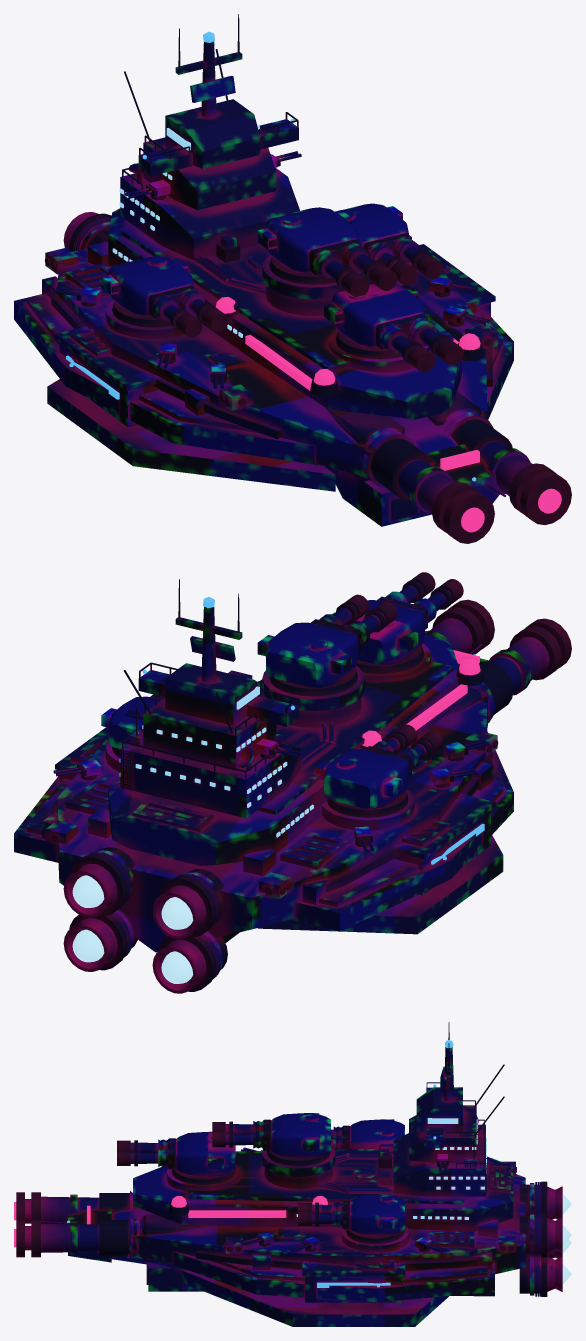
Rendered from iron_dreadnought.glb.
The picture shows the model from 3 angles, top to bottom: view 1: azimuth 30°, elevation 25°; view 2: azimuth 150°, elevation 25°; view 3: azimuth 270°, elevation 25°; orthographic projection. The views are drawn at different scales.
Visible parts, largest first — view 1: iron_dreadnought; view 2: iron_dreadnought; view 3: iron_dreadnought.
Part boxes in pixels (left/top/right/bottom): iron_dreadnought: left=14, top=14, right=571, bottom=543; iron_dreadnought: left=14, top=572, right=571, bottom=993; iron_dreadnought: left=14, top=1022, right=571, bottom=1326.
Bounding box in the file's own units: 5.2 × 4.72 × 9.09.
Materials: 13 (9 with a texture image).
